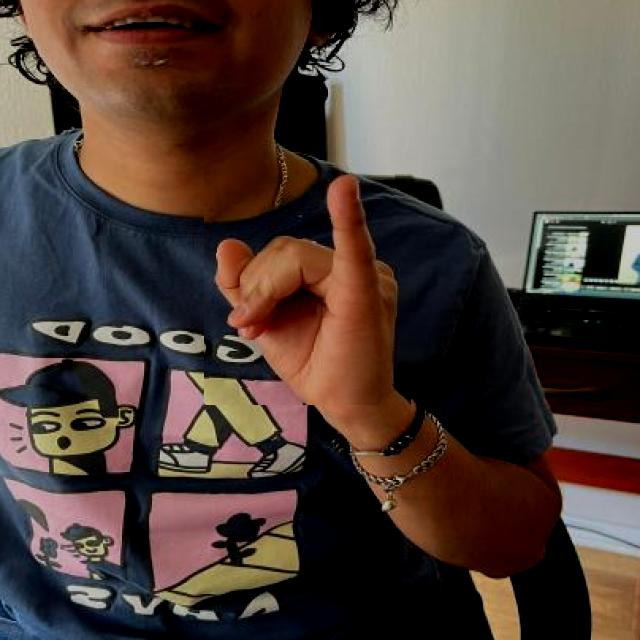I: (202, 164, 416, 405)
